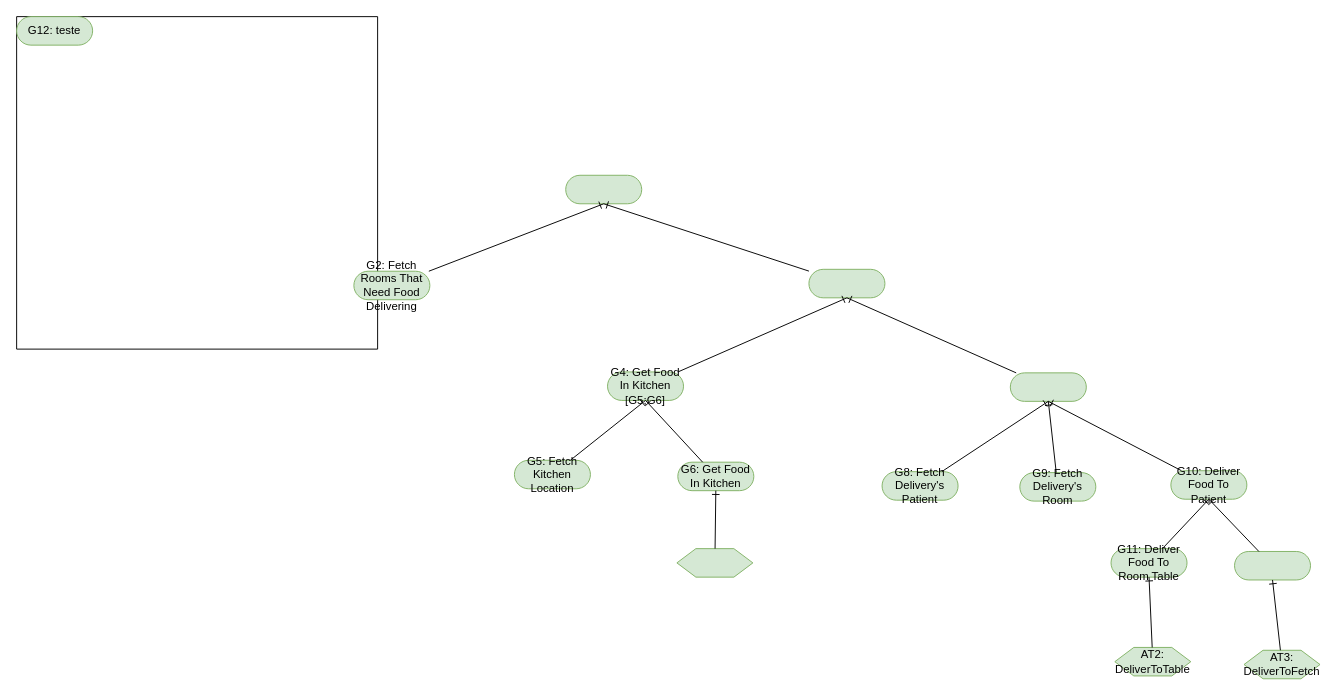
Image size: 1337x695. Some labels were removed from this diagram. The box of each missing label's shape, as (x1, y1, x2, y2) in pixels:
AT1: GetFood: (676, 548, 753, 577)
G12: Food Fetched From Robot Tray: (1234, 551, 1311, 580)
G1: Deliver Food to Patients [G2;G3]: (565, 174, 642, 204)
G3: Get Foods and Deliver Them in Rooms [G4;G7]: (808, 268, 885, 298)
G7: Deliver Food [G8;G9;G10]: (1009, 372, 1086, 401)
